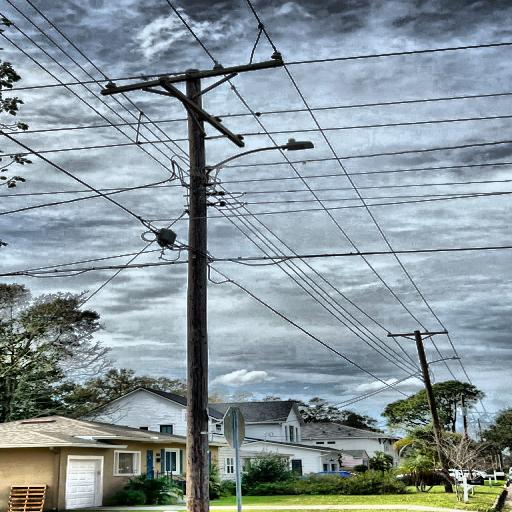pole: (170, 62, 220, 512)
street light: (200, 138, 319, 181)
